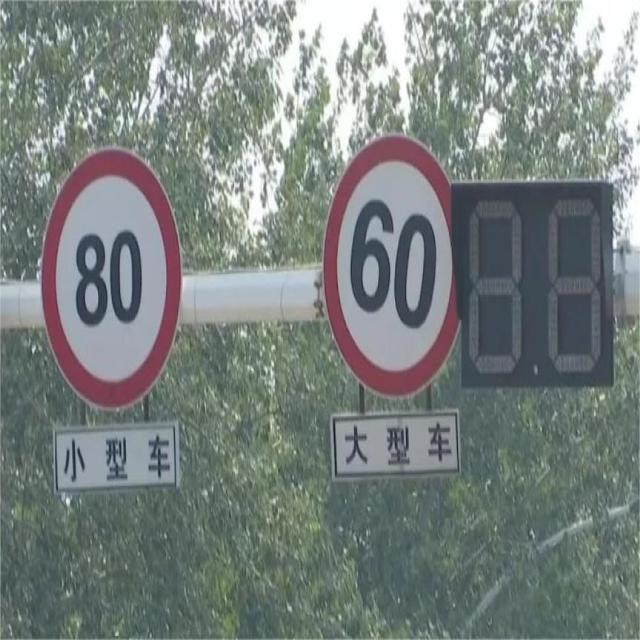speed limit 60: (323, 136, 463, 401)
speed limit 80: (39, 148, 183, 413)
